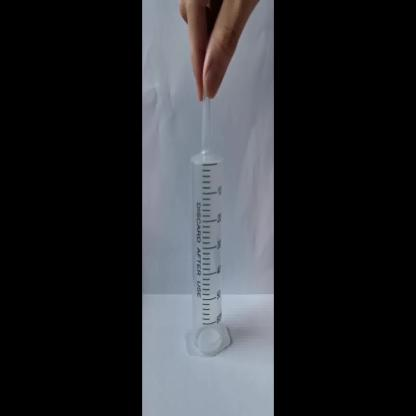dry: (179, 104, 237, 362)
